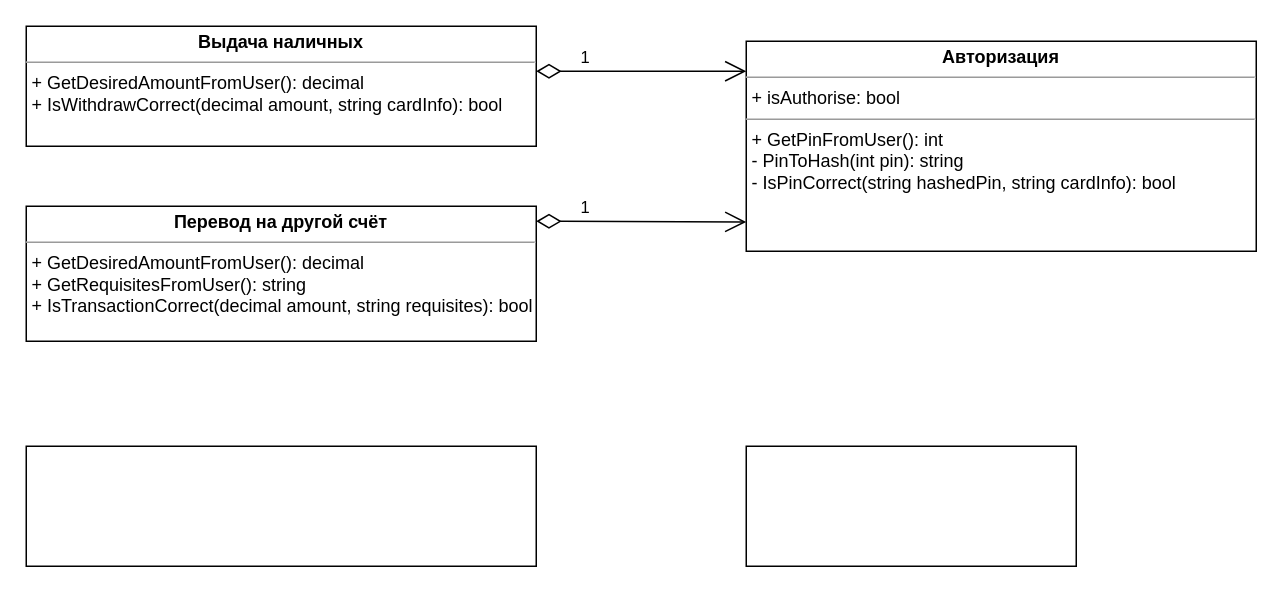
The diagram is 1283 pixels wide and 593 high, and some of its shapes have lost their labels. Here are the shapes that lost their labels. From the top down, the centre of each, then its label:
At point (280, 505): "Взнос наличных + IsCashDepoSucess(decimal amount, string cardInfo): bool".
At point (910, 505): "Остаток баланса + Balance(string cardInfo): decimal".
